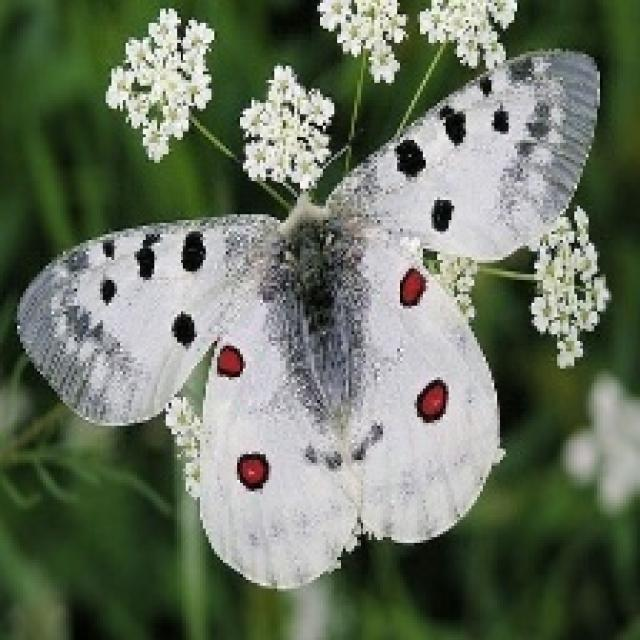butterfly: (17, 47, 600, 587)
